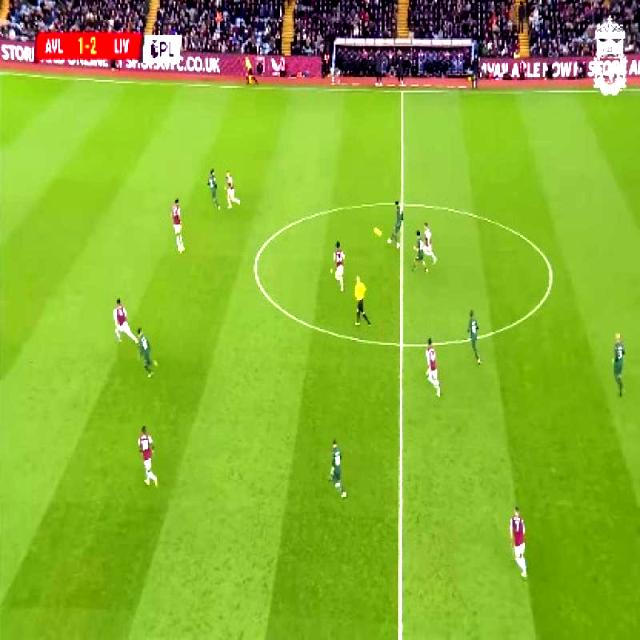halfcircle_bottom: (391, 329, 411, 357)
halfcircle_top: (392, 192, 411, 214)
midline_top_intersection: (394, 80, 409, 100)
